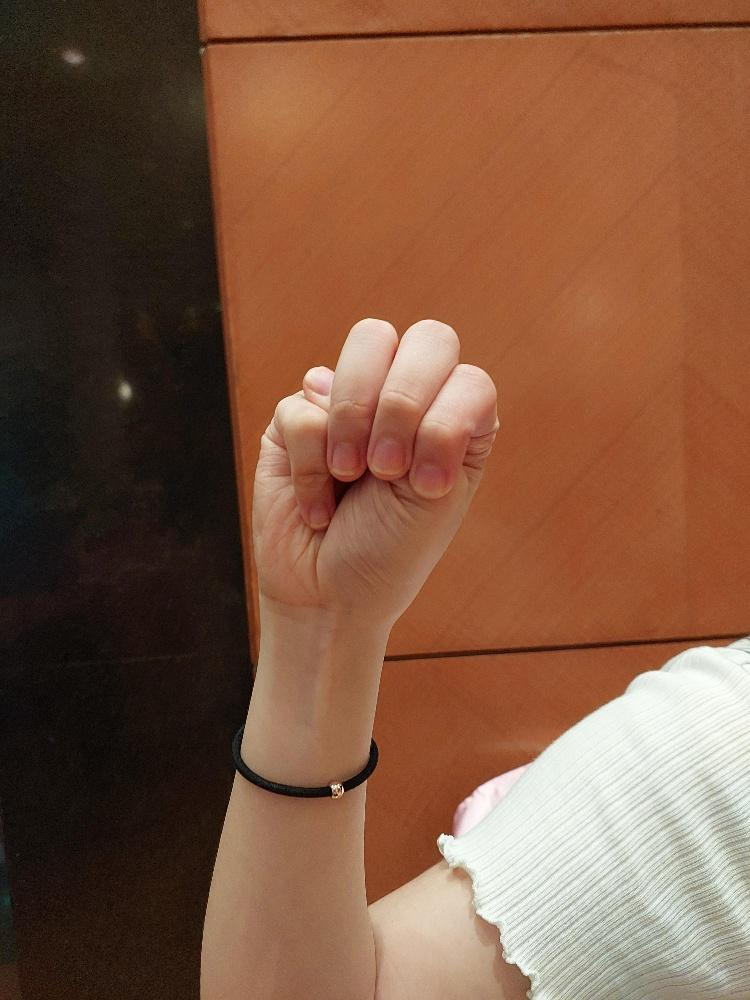m: (248, 311, 501, 627)
